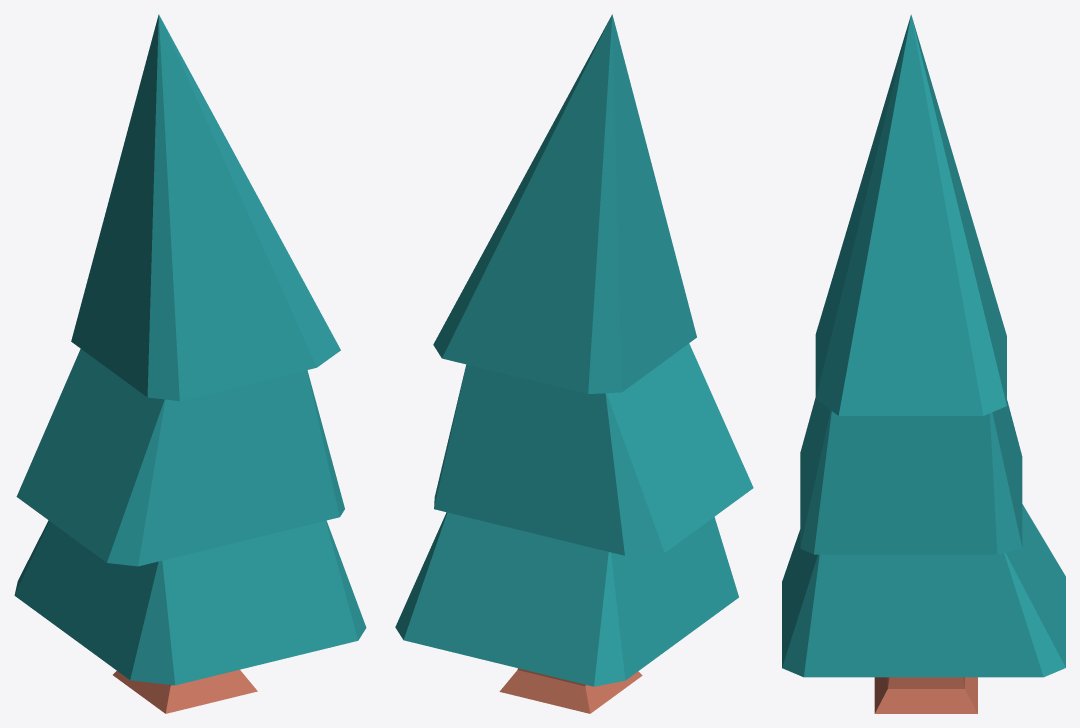
Rendered from tree_pineSmallB.obj.
3 renders of one model, left to right at view 1: azimuth 30°, elevation 25°; view 2: azimuth 150°, elevation 25°; view 3: azimuth 270°, elevation 25°, orthographic. The views are drawn at different scales.
Visible parts, largest first — view 1: tree_pineSmallB; view 2: tree_pineSmallB; view 3: tree_pineSmallB.
Boxes of the visible parts, x1=… form: tree_pineSmallB: x1=14, y1=14, x2=366, y2=713; tree_pineSmallB: x1=395, y1=14, x2=753, y2=713; tree_pineSmallB: x1=782, y1=14, x2=1065, y2=713.
Size of the model in its own units: 0.3863 by 1.01 by 0.3919.
